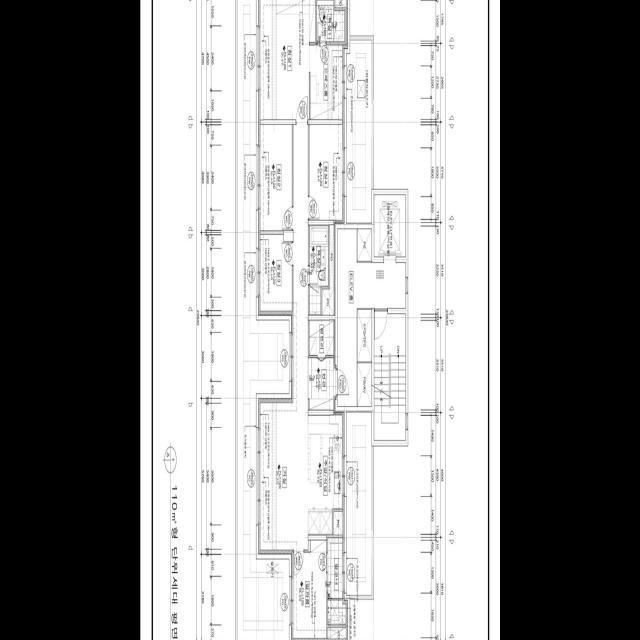background: (140, 0, 500, 640)
space_balconi: (327, 538, 342, 599)
space_bedroom: (260, 0, 315, 120), (260, 124, 292, 231), (309, 124, 342, 220), (260, 234, 292, 311)
space_dressroom: (310, 45, 342, 120)
space_elevator: (374, 195, 405, 257)
space_elevator_hall: (337, 229, 405, 407)
space_front: (309, 358, 333, 410)
space_kitchen: (308, 415, 342, 535)
space_living_room: (260, 125, 308, 550)
space_other: (346, 40, 371, 224), (293, 540, 326, 638), (322, 225, 333, 315), (309, 320, 333, 356), (357, 309, 371, 362), (357, 363, 371, 406), (327, 600, 346, 625), (357, 229, 371, 262), (327, 628, 346, 639), (333, 512, 342, 535), (335, 0, 346, 8)
space_staircase: (374, 314, 405, 441)
space_toilet: (309, 225, 328, 315), (317, 1, 344, 41)
